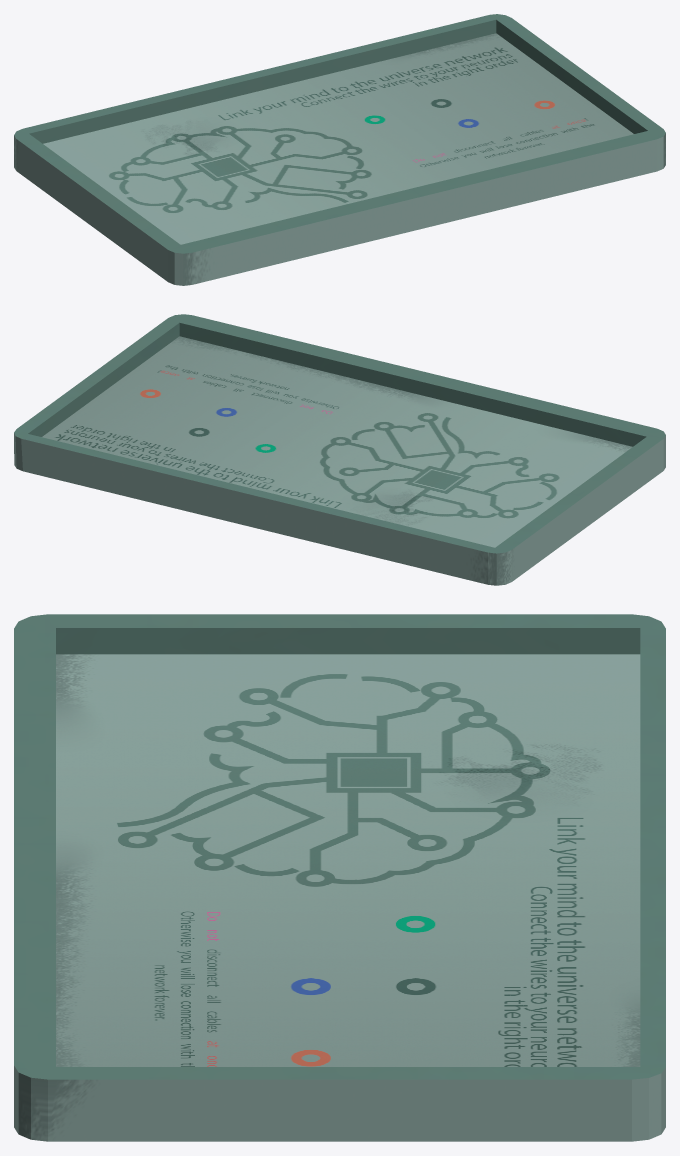
Rendered from ConnectYourMind.fbx.
The picture shows the model from 3 angles, top to bottom: view 1: azimuth 30°, elevation 25°; view 2: azimuth 150°, elevation 25°; view 3: azimuth 270°, elevation 25°; orthographic projection. The views are drawn at different scales.
Parts seen in each view (by area): view 1: Connect Your Mind Mesh; view 2: Connect Your Mind Mesh; view 3: Connect Your Mind Mesh.
Boxes of the visible parts, x1,y1,x2,y2 form: Connect Your Mind Mesh: [14, 14, 665, 285]; Connect Your Mind Mesh: [14, 314, 665, 585]; Connect Your Mind Mesh: [14, 614, 665, 1141].
Bounding box in the file's own units: 188 × 11.72 × 112.
1 material, 1 textured.
